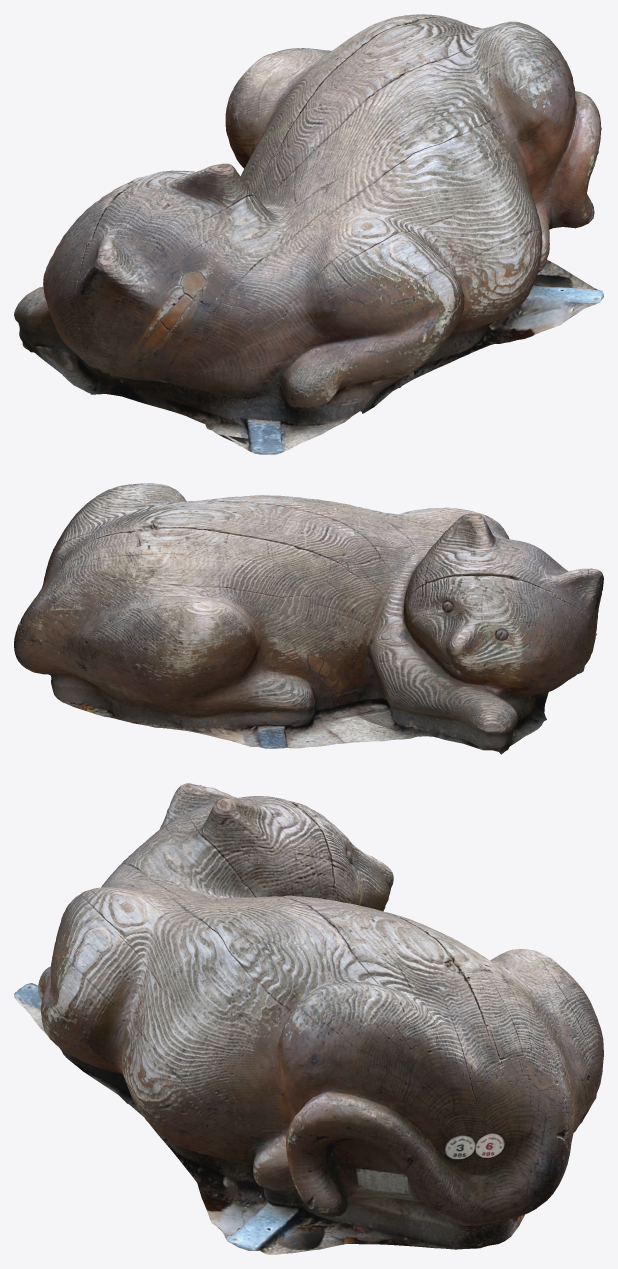
Rendered from cat-statue.glb.
3 renders of one model, top to bottom at view 1: azimuth 30°, elevation 25°; view 2: azimuth 150°, elevation 25°; view 3: azimuth 270°, elevation 25°, orthographic. The views are drawn at different scales.
Parts seen in each view (by area): view 1: Object_4; view 2: Object_4; view 3: Object_4.
Boxes of the visible parts, box(x1,y1,x2,y2) form: Object_4: box(14, 14, 603, 454); Object_4: box(14, 483, 603, 754); Object_4: box(14, 783, 603, 1254).
Bounding box in the file's own units: 1.67 × 0.6478 × 1.36.
Materials: 1 (1 with a texture image).
